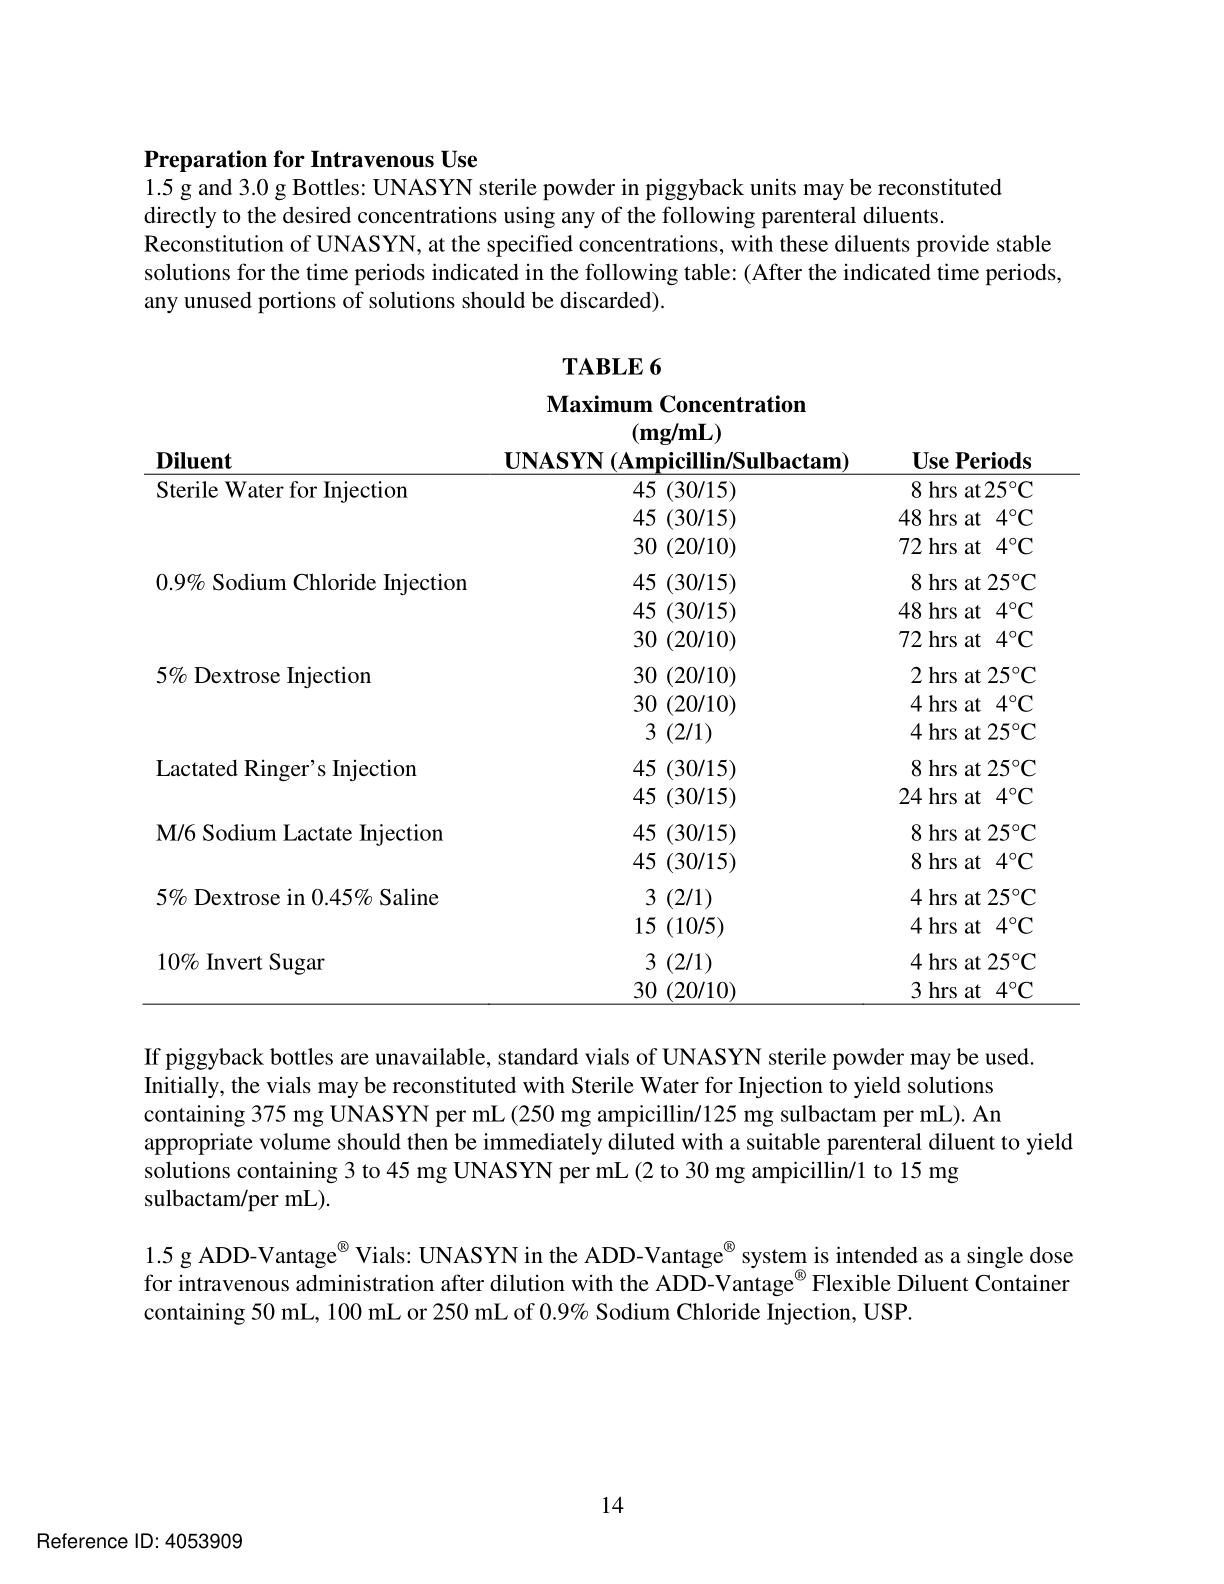partial_lined: (141, 445, 1084, 1005)
